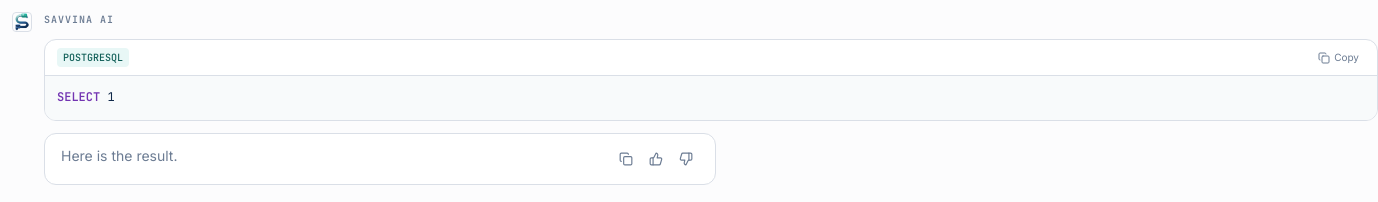
Test: ChatMessage — feedback submission › buttons are disabled after first click to prevent double-submit
This screenshot has width=1378, height=202.
Click the button titled "Good answer" at x=656, y=158, box 643,146 -> 669,172
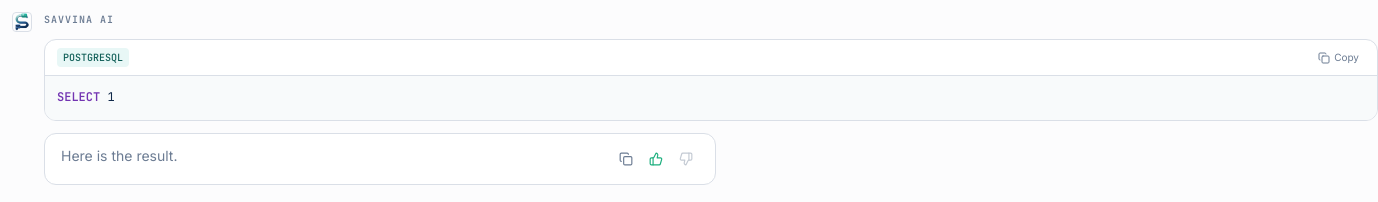
Now the button titled "Good answer" is disabled, box 643,146 -> 669,172
Now the button titled "Bad answer" is disabled, box 673,146 -> 699,172
